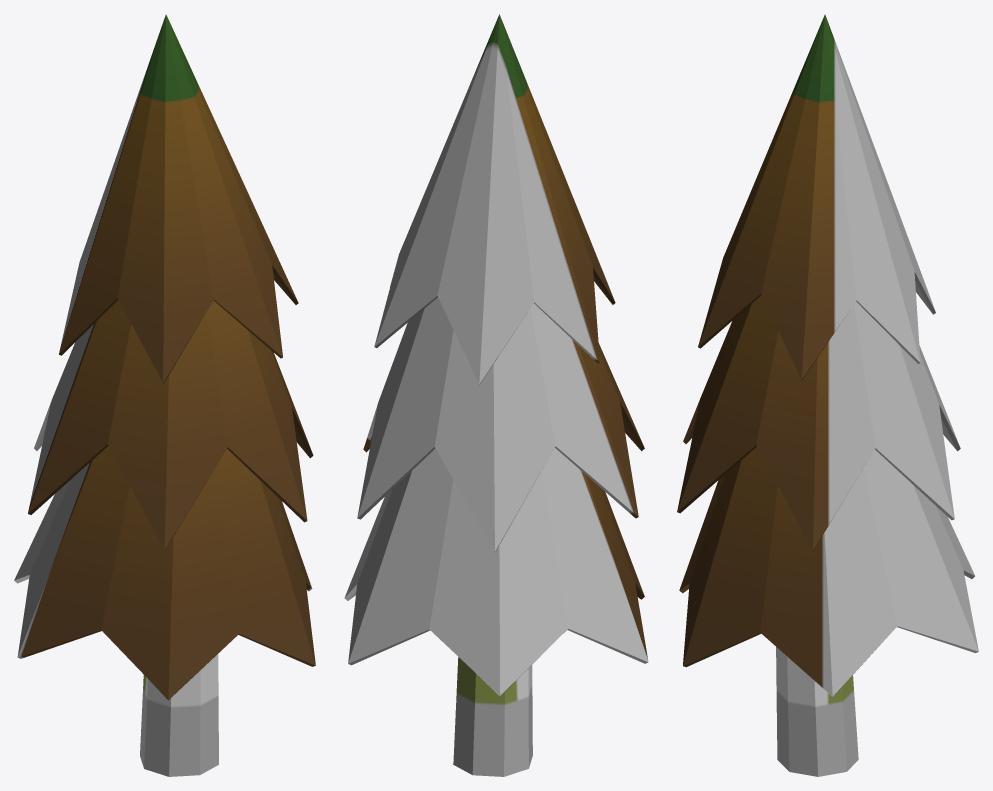
File: Tree_24.fbx
3 views of the same model, side by side, from view 1: azimuth 30°, elevation 25°; view 2: azimuth 150°, elevation 25°; view 3: azimuth 270°, elevation 25° (orthographic).
Parts seen in each view (by area): view 1: Tree_24; view 2: Tree_24; view 3: Tree_24.
Part boxes in pixels (x1,y1,x2,y2): Tree_24: [14, 14, 315, 776]; Tree_24: [344, 14, 648, 776]; Tree_24: [677, 14, 978, 776].
Bounding box in the file's own units: 2.48 × 5.93 × 2.19.
